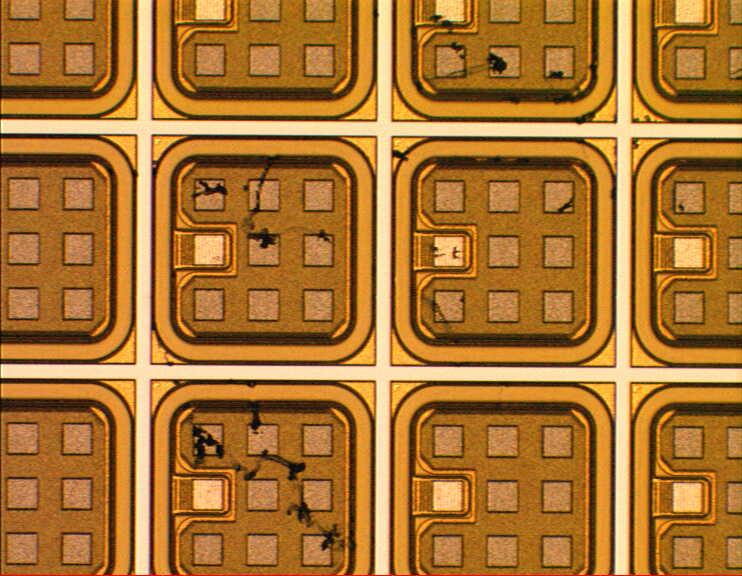SCRATCH: (154, 1, 691, 555)
